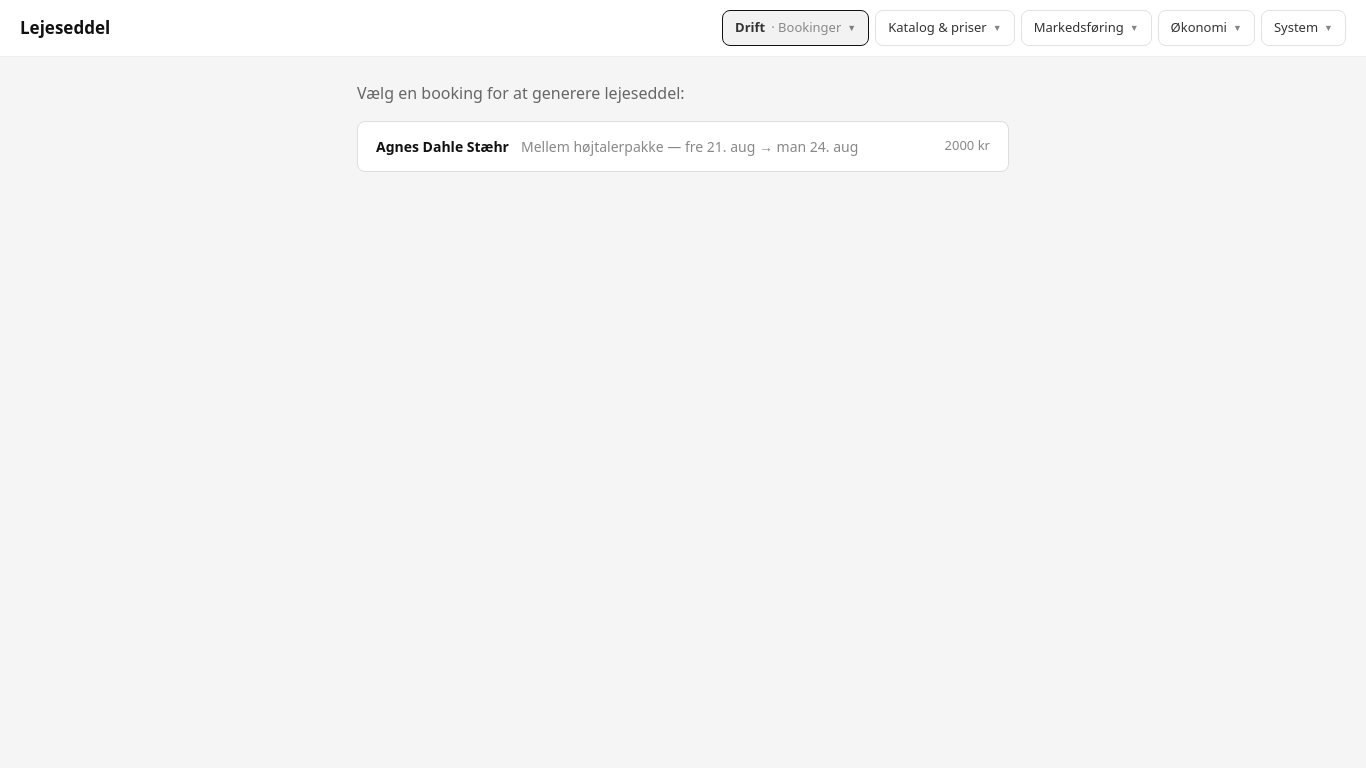
Test: Lejesedlen › kan skifte til bilaget med de fulde vilkår
Click the button "Agnes Dahle Stæhr".
click(683, 146)  # box top-left (357, 120), bottom-right (1009, 172)
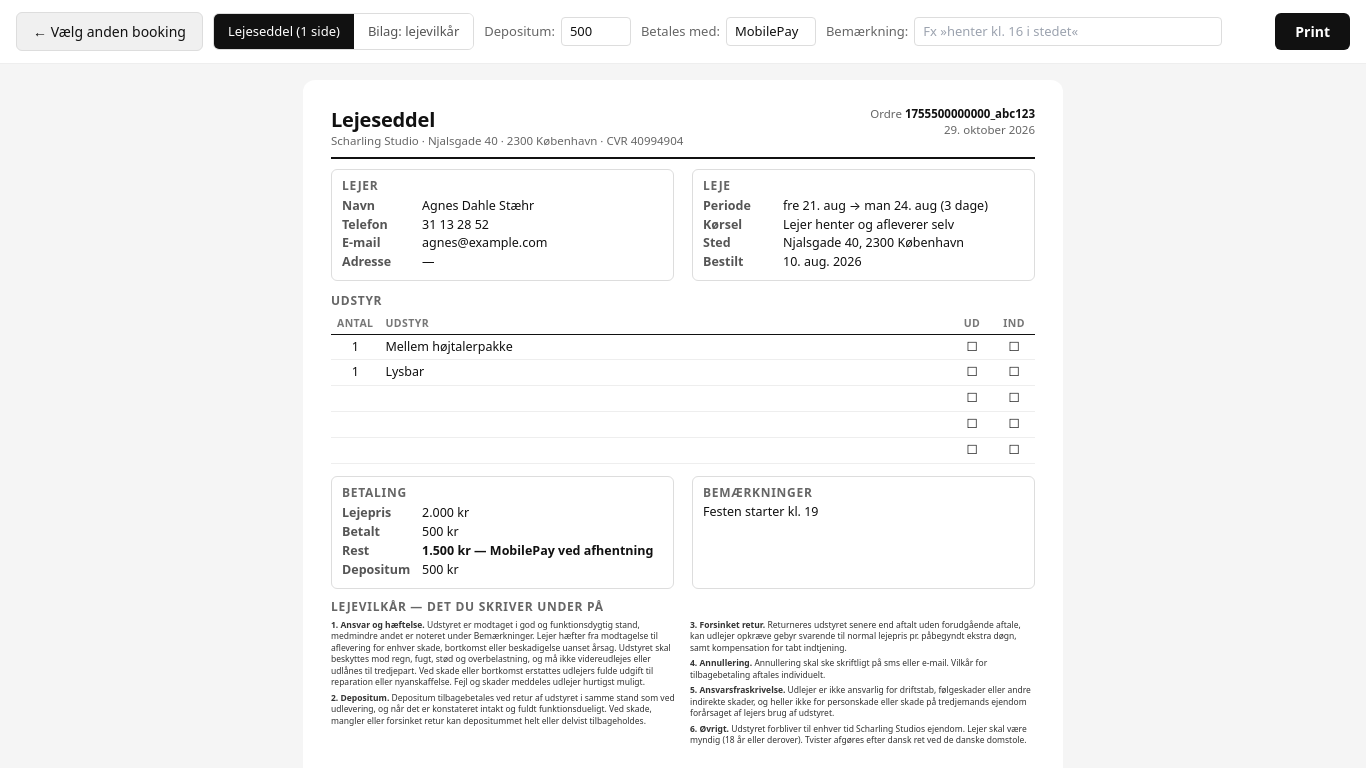
Expected: the text "Lejeseddel" is shown, top-left (331, 106), bottom-right (435, 133)
Click the button "Bilag: lejevilkår".
click(414, 32)  # box top-left (354, 14), bottom-right (473, 49)
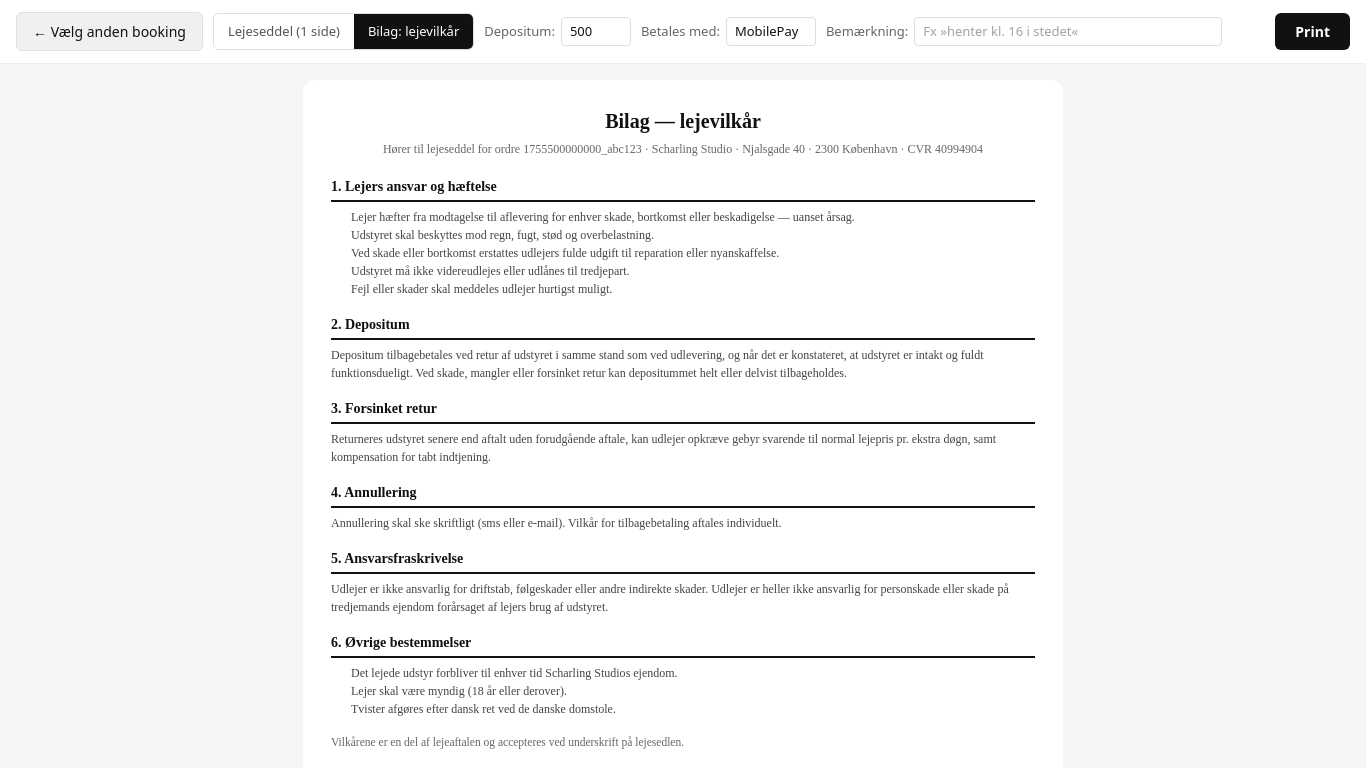
Now the list item "Tvister afgøres efter dansk ret ved de danske domstole." is shown, box top-left (351, 702), bottom-right (616, 716)
Now the heading "Bilag — lejevilkår" is shown, box top-left (605, 110), bottom-right (761, 132)
Now the text "1755500000000_abc123" is shown, box top-left (523, 142), bottom-right (642, 156)
